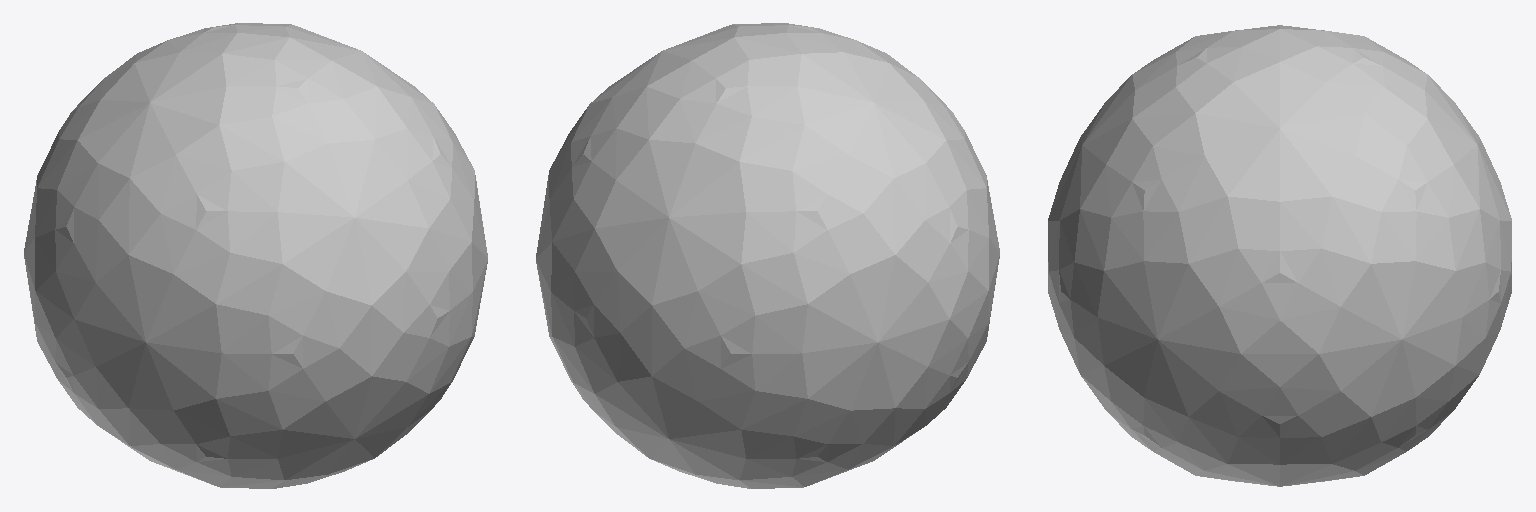
File: internal4.obj
3 views of the same model, side by side, from view 1: azimuth 30°, elevation 25°; view 2: azimuth 150°, elevation 25°; view 3: azimuth 270°, elevation 25° (orthographic).
Parts seen in each view (by area): view 1: pSolid1; view 2: pSolid1; view 3: pSolid1.
Boxes of the visible parts, x1,y1,x2,y2 form: pSolid1: [24, 23, 487, 488]; pSolid1: [536, 23, 999, 488]; pSolid1: [1048, 25, 1511, 486].
Size of the model in its own units: 2 by 2 by 2.